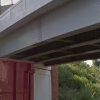Bridge: (2, 4, 95, 56)
